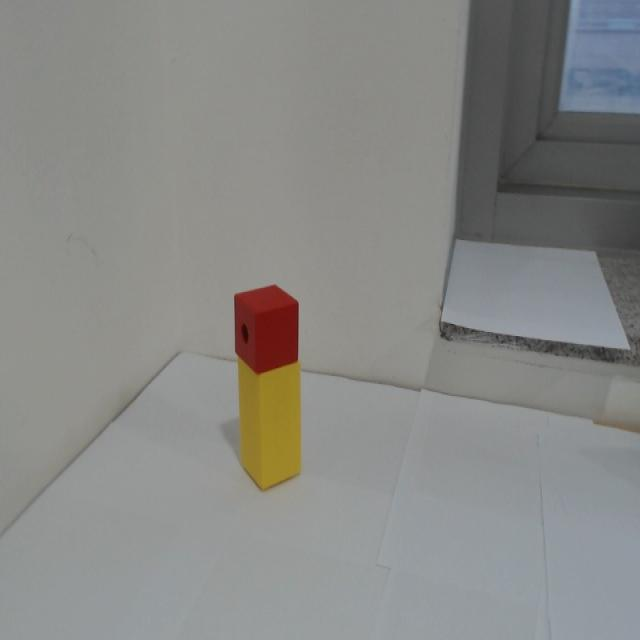cube: (233, 284, 300, 374)
